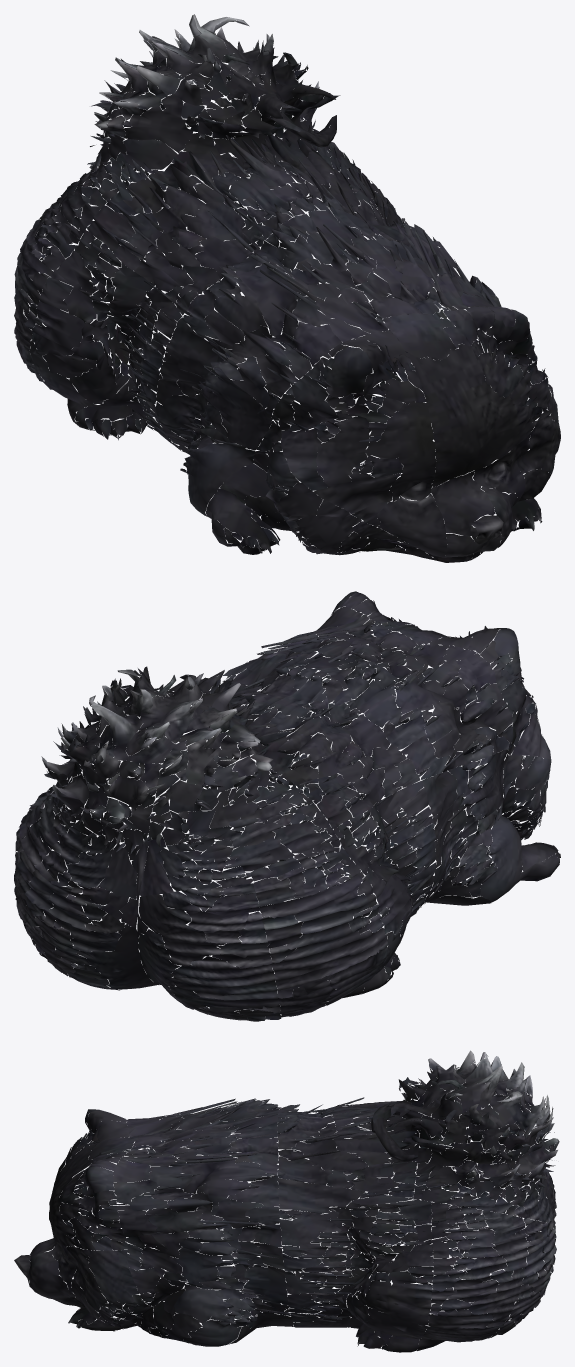
The model's file is dog.glb.
3 views of the same model, one above another, from view 1: azimuth 30°, elevation 25°; view 2: azimuth 150°, elevation 25°; view 3: azimuth 270°, elevation 25° (orthographic). The views are drawn at different scales.
Visible parts, largest first — view 1: black_pomeranian_3d_model; view 2: black_pomeranian_3d_model; view 3: black_pomeranian_3d_model.
Part boxes in pixels (left/top/right/bottom): black_pomeranian_3d_model: left=14, top=14, right=560, bottom=562; black_pomeranian_3d_model: left=14, top=591, right=560, bottom=1021; black_pomeranian_3d_model: left=14, top=1050, right=559, bottom=1352.
Size of the model in its own units: 0.5897 by 0.4818 by 0.9825.
Materials: 1 (1 with a texture image).
